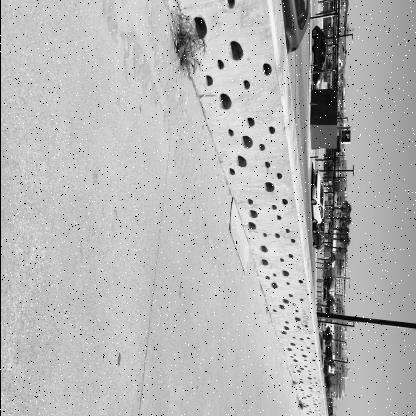cardboard: (228, 197, 249, 277)
